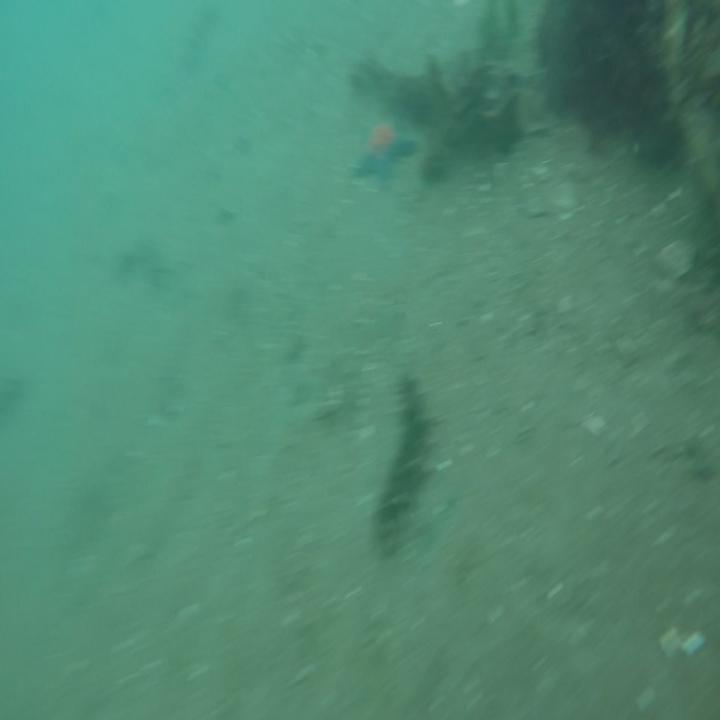holothurian: (367, 369, 437, 556)
starfish: (352, 111, 417, 188)
